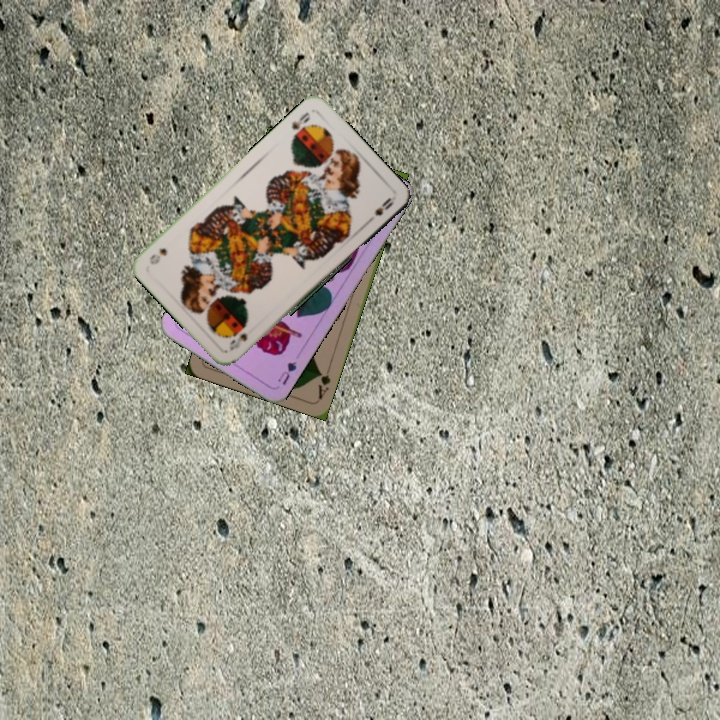GA: (314, 362, 333, 402)
GU: (273, 355, 299, 388)
SO: (287, 108, 313, 140), (225, 329, 250, 353)
